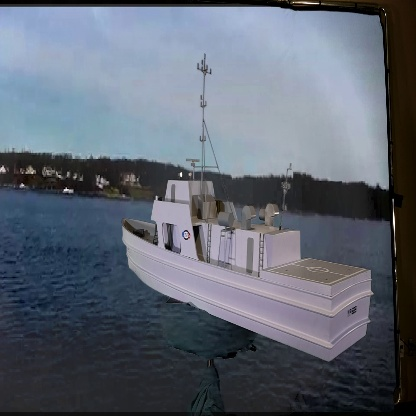YP689: (122, 50, 372, 364)
